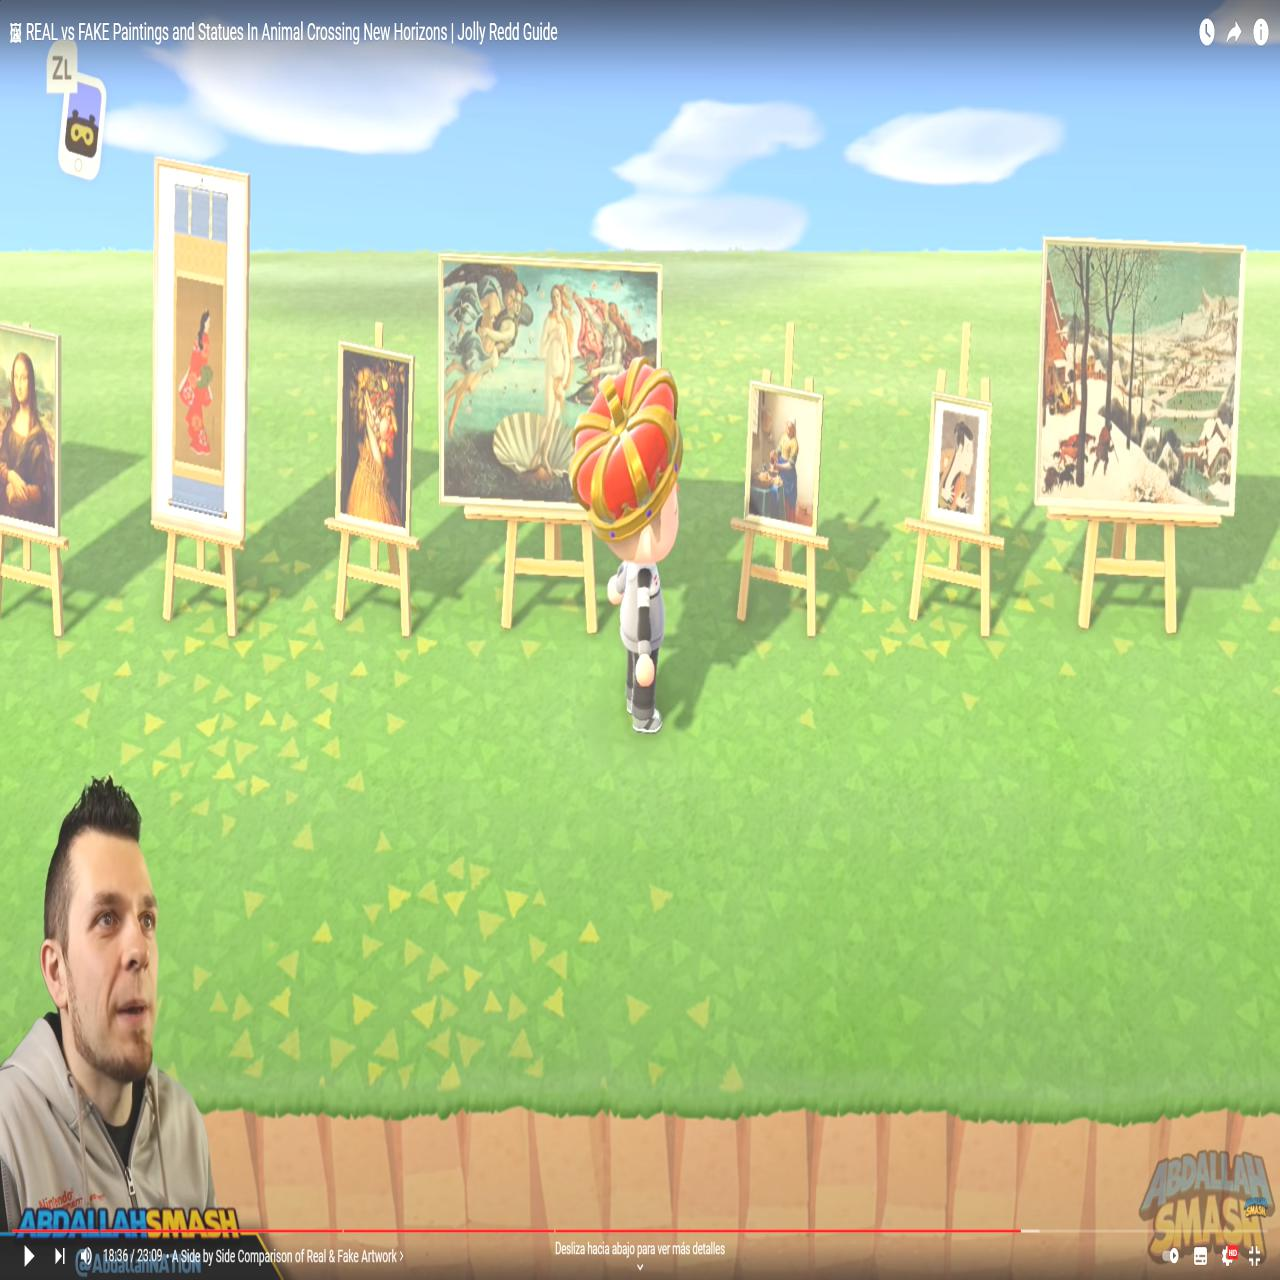BirthVenusFake: (442, 259, 659, 517)
HunterSnowFake: (1043, 245, 1238, 508)
MikaeriFake: (176, 274, 223, 477)
MilkmaidFake: (754, 390, 815, 532)
MonaLisaFake: (2, 331, 55, 527)
OotaniOnijiFake: (940, 406, 980, 519)
SummerFake: (343, 353, 407, 529)
